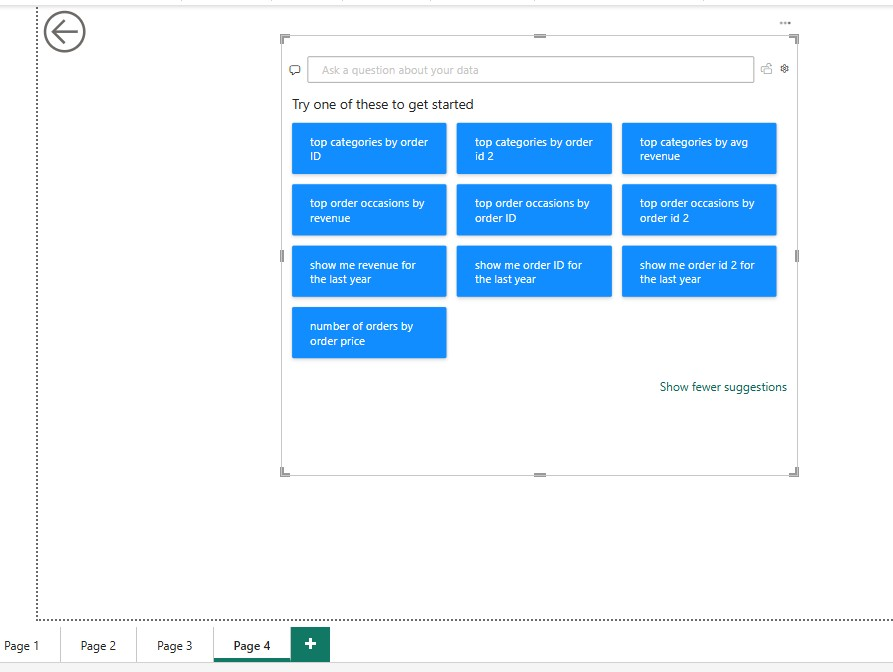

The page's visual inventory and layout, read from the dashboard file:
{"tool":"powerbi","page":{"name":"Page 4","canvas":[1280,720],"ordinal":3},"visuals":[{"type":"qnaVisual","box":[285,35,606.2,517.5],"z":0},{"type":"actionButton","box":[0,0,121.2,62.5],"z":1000}]}

Visuals, with their boxes on the page's 1280x720 design canvas (x1, y1, x2, y2). These are canvas units, not pixel positions in the 893x672 screenshot, which may show the page scaled, cropped or inside an application window:
qnaVisual: x1=285 y1=35 x2=891 y2=552
actionButton: x1=0 y1=0 x2=121 y2=62
